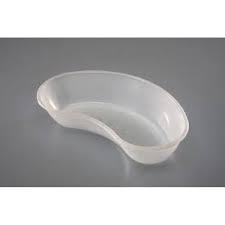Kidney Tray: (35, 64, 192, 169)
